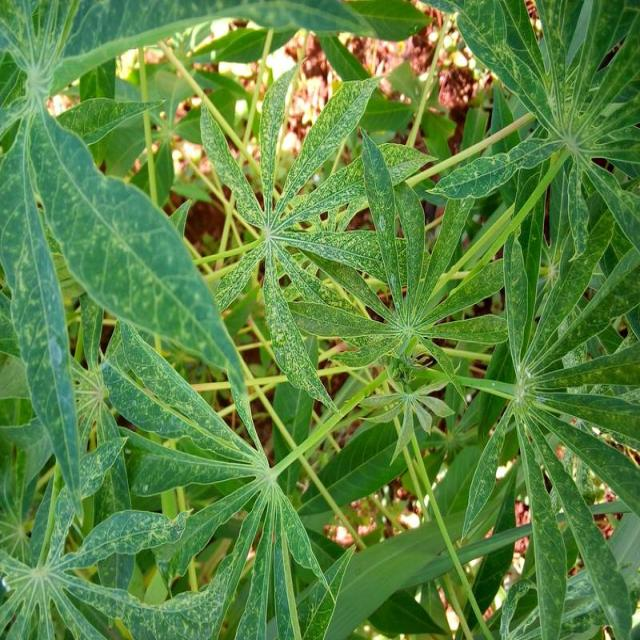cassava leaf: (2, 1, 640, 638), (27, 99, 264, 459)
